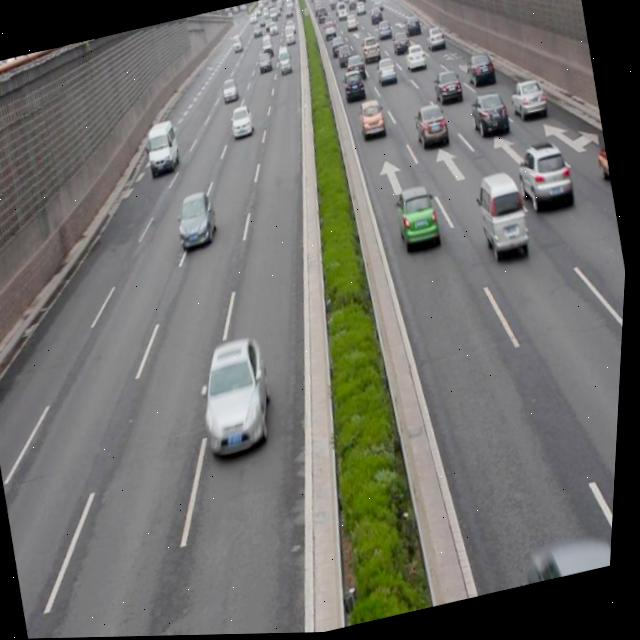car: (192, 336, 286, 464), (512, 139, 576, 219), (391, 183, 443, 253), (172, 190, 223, 253), (466, 90, 512, 142), (506, 78, 549, 126), (411, 100, 451, 151), (355, 98, 388, 141), (462, 52, 496, 92), (430, 69, 463, 107), (592, 139, 615, 191), (228, 105, 257, 140), (340, 70, 367, 107)
truck: (471, 172, 536, 267), (142, 119, 185, 180)
